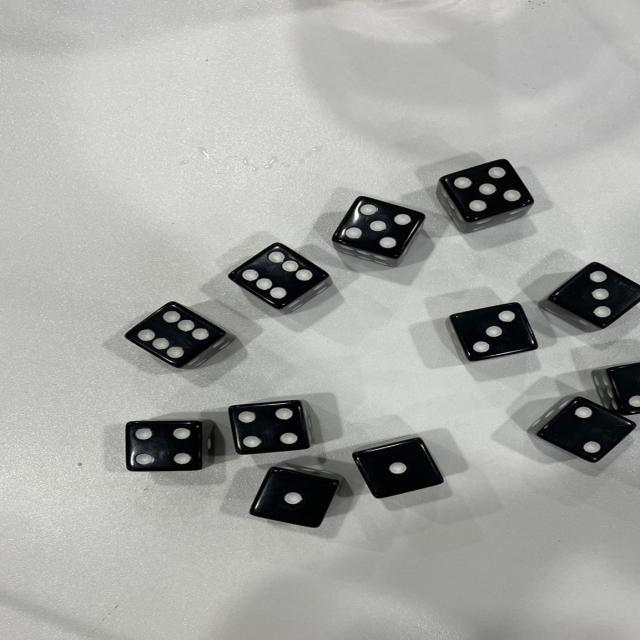DICE1: (363, 440, 434, 490), (277, 478, 323, 522)
DICE2: (566, 405, 618, 456), (616, 360, 640, 415)
DICE3: (563, 255, 640, 334), (438, 288, 520, 359)
DICE4: (133, 416, 220, 487), (236, 396, 320, 451)
DICE5: (330, 183, 430, 271), (428, 148, 540, 219)
DICE6: (202, 216, 314, 317), (124, 290, 230, 376)
